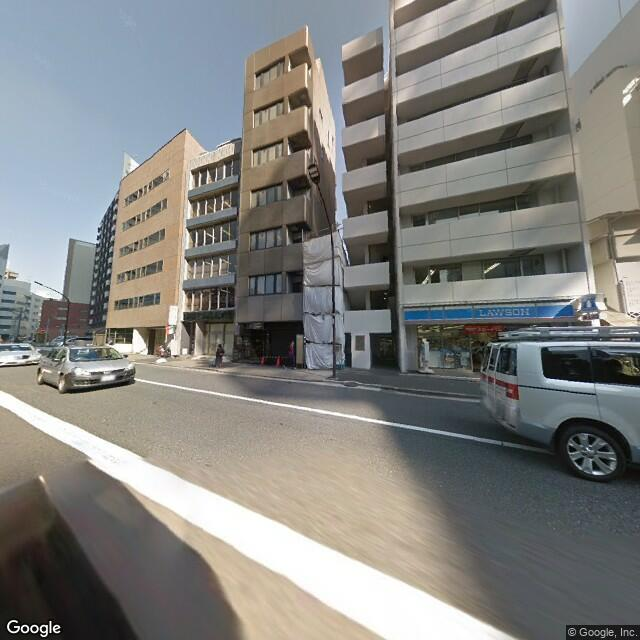lawson: (399, 298, 577, 329), (579, 292, 599, 314)
